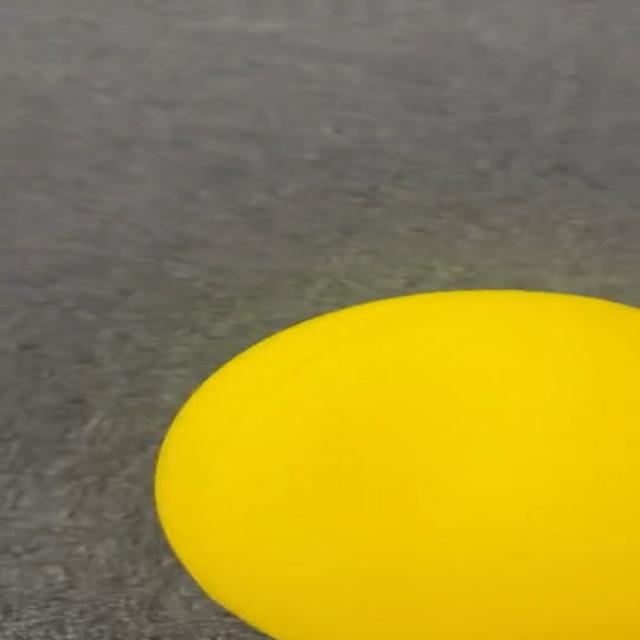Fuels: (156, 287, 638, 636)
